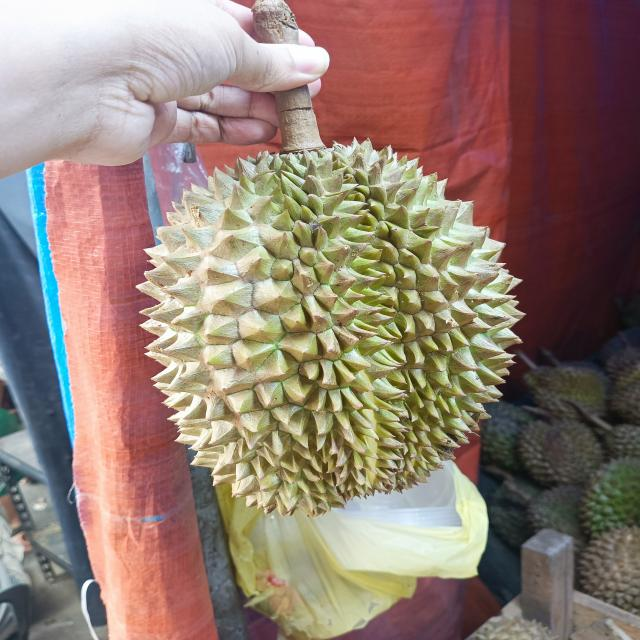mature: (139, 87, 523, 515)
